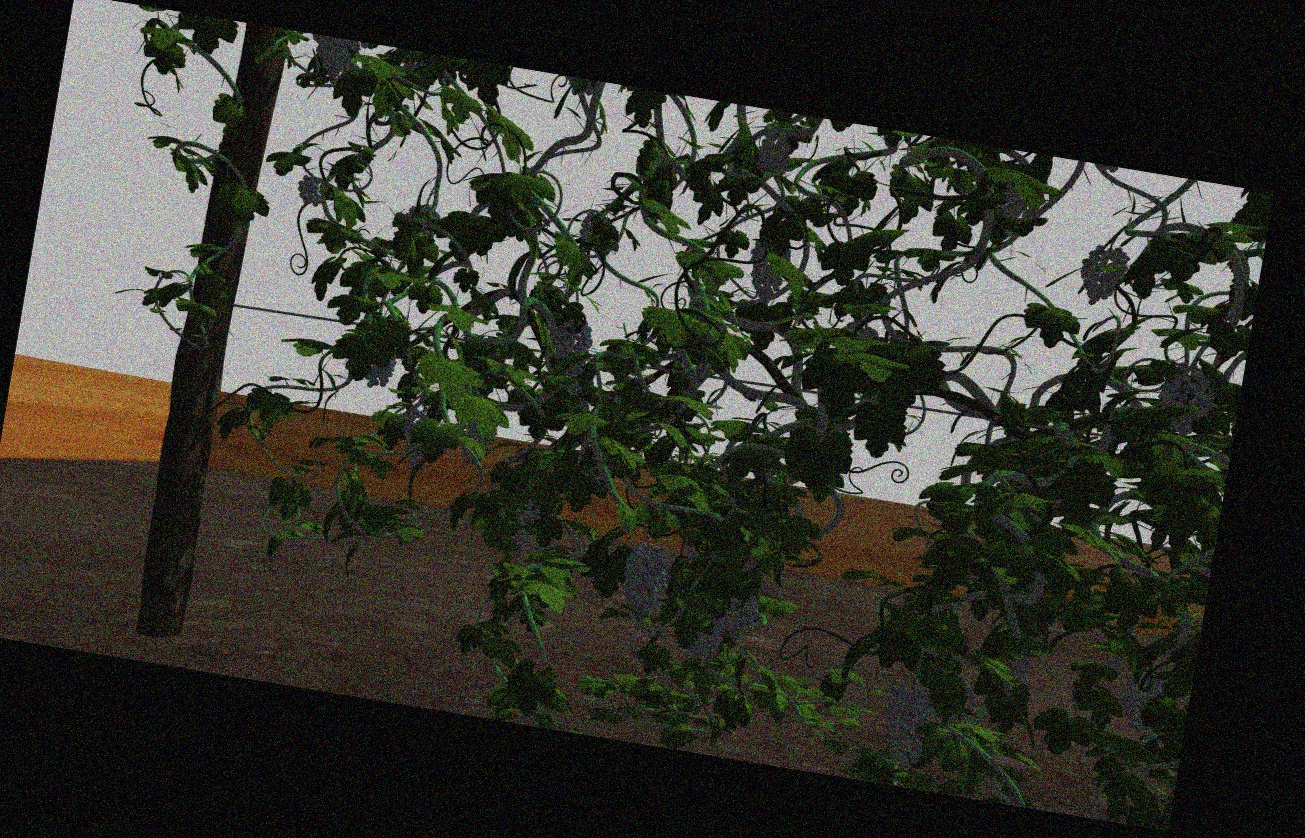grape: (879, 686, 933, 769), (619, 543, 668, 624), (1076, 247, 1129, 308), (548, 308, 594, 376), (1116, 671, 1164, 732), (1159, 374, 1210, 431), (685, 603, 726, 668), (748, 235, 787, 303), (722, 582, 760, 637), (308, 39, 355, 76), (753, 136, 791, 172), (296, 174, 323, 207)
